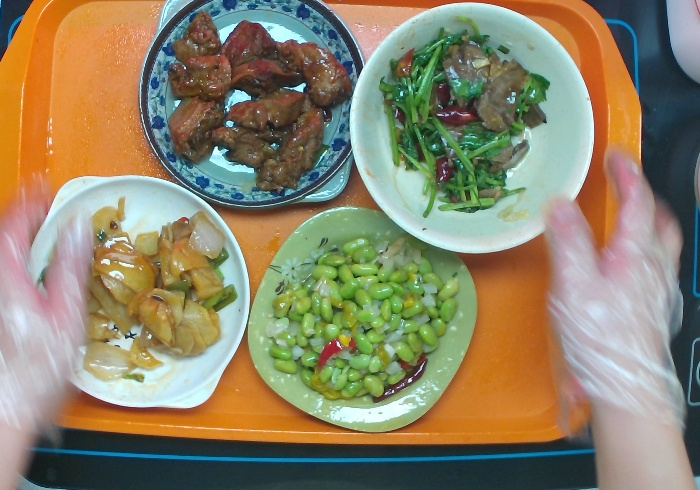NLDX-Bai_Se_Shuang_Er_Die: (23, 169, 254, 416)
NLDX-Bai_Se_Yuan_Wan: (347, 1, 599, 260)
NLDX-Lv_Hua_Fang_Die: (246, 201, 481, 439)
NLDX-Qing_Hua_Shuang_Er_Die: (135, 1, 375, 214)
